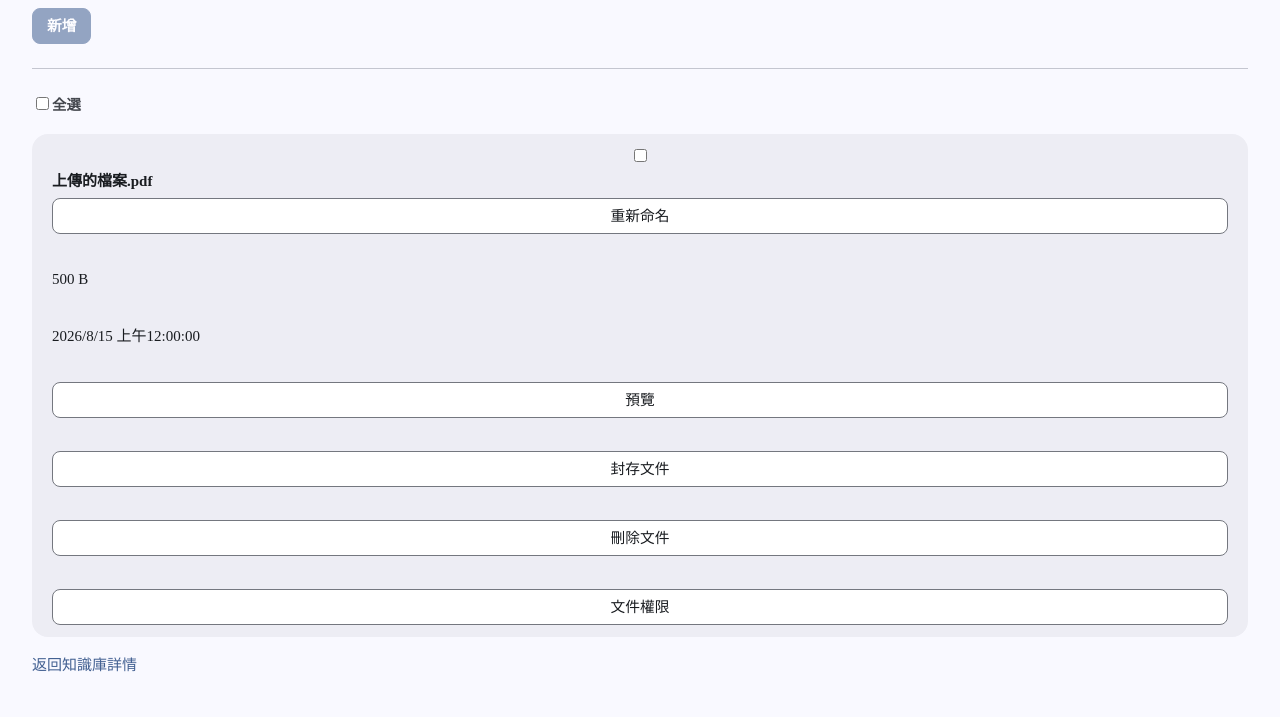
KnowledgeDocumentList — document preview (E05-S022) › shows an honest 無法預覽 message for a file-sourced document with no stored content
The image size is (1280, 717).
(page scrolled)
Expected: the text "上傳的檔案.pdf" is shown, [52,173,152,189]
Step 1. Click the button "預覽" → x=640, y=400, box [52,382,1228,418]
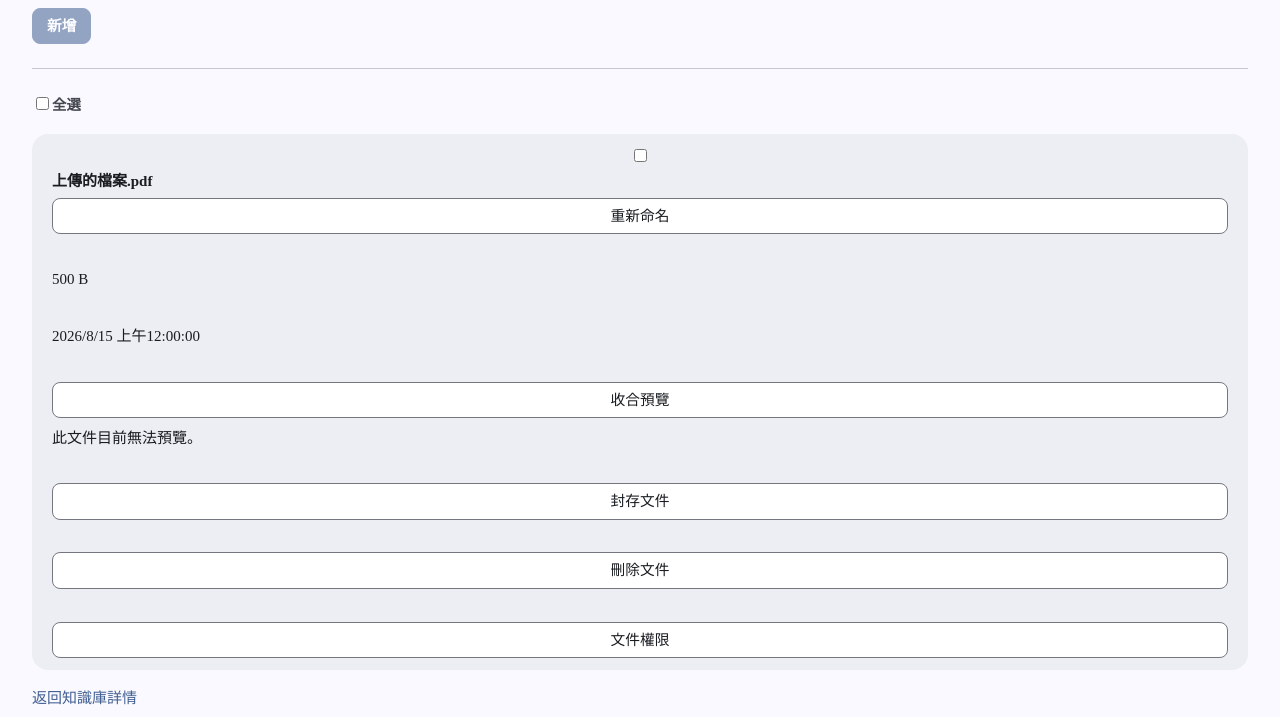
Now the text "此文件目前無法預覽。" is shown, box [52,430,202,446]
